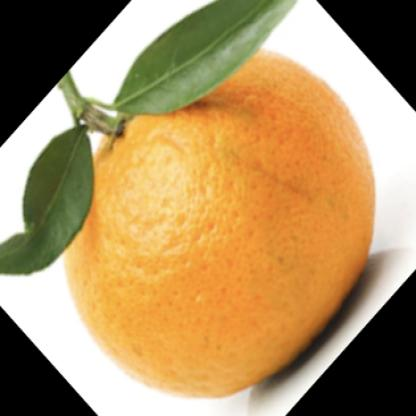fresh: (55, 41, 377, 398)
